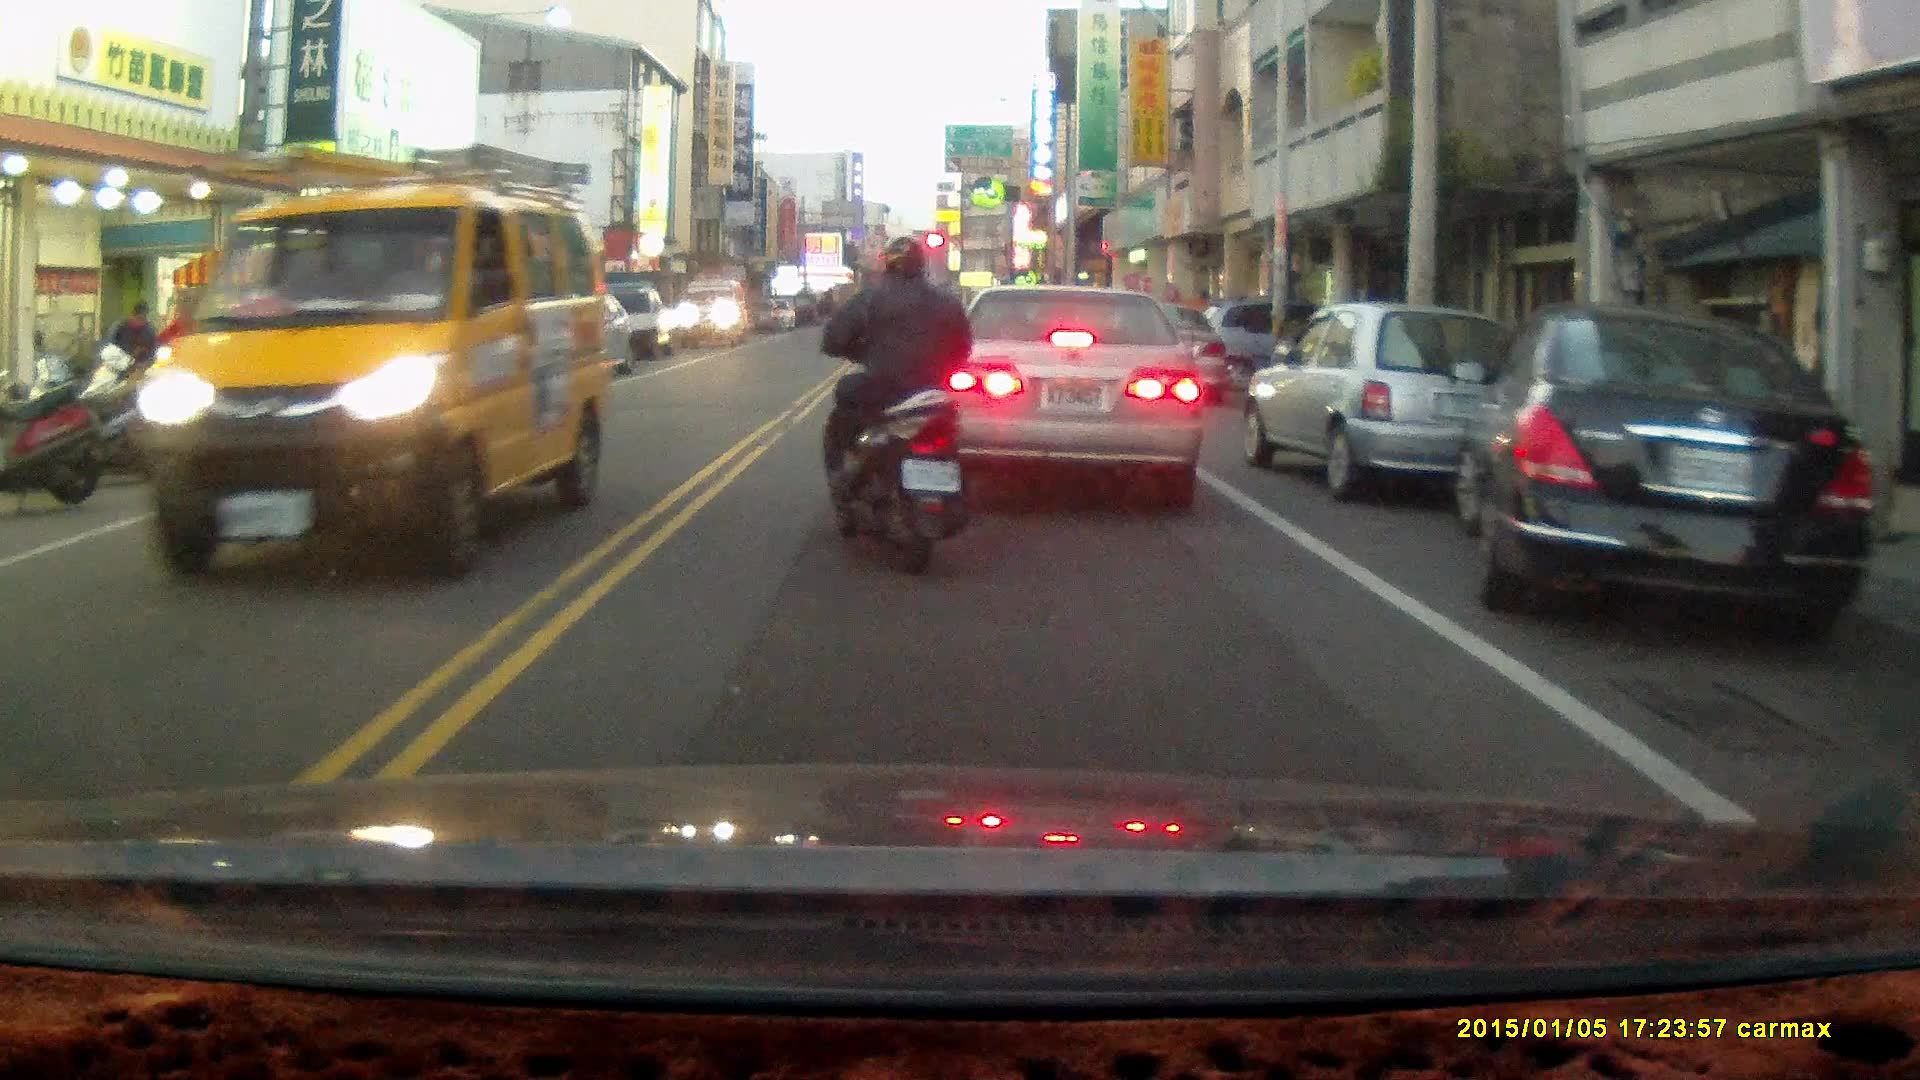pedestrian: (107, 298, 158, 409)
rider: (816, 230, 982, 575)
vehicle: (153, 135, 595, 612), (1446, 302, 1870, 652), (928, 281, 1208, 503), (1241, 300, 1511, 500), (680, 269, 756, 339)
